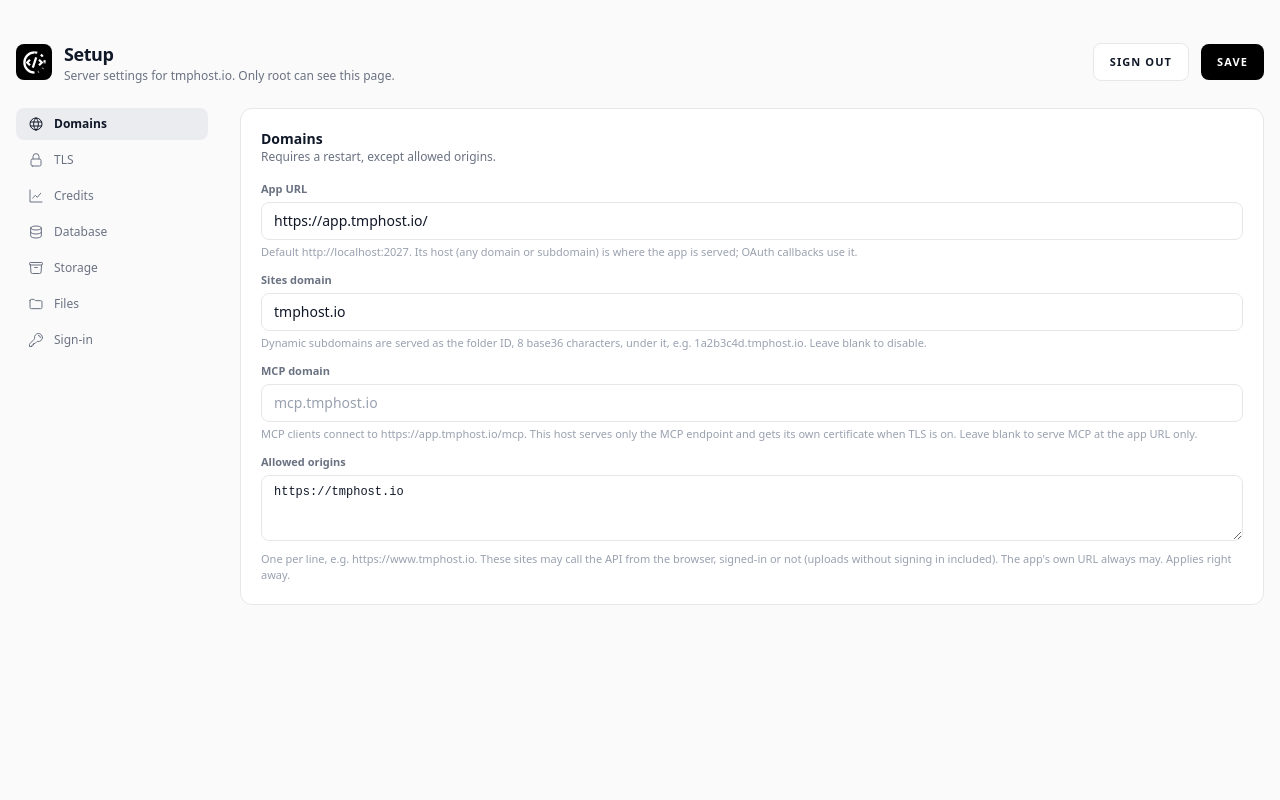
Test: SetupView › shows one settings section at a time from the side menu
The width and height of the screenshot is (1280, 800).
Click the button with test id "setup-tab-credits".
click(112, 196)  # box x1=16 y1=180 x2=208 y2=212
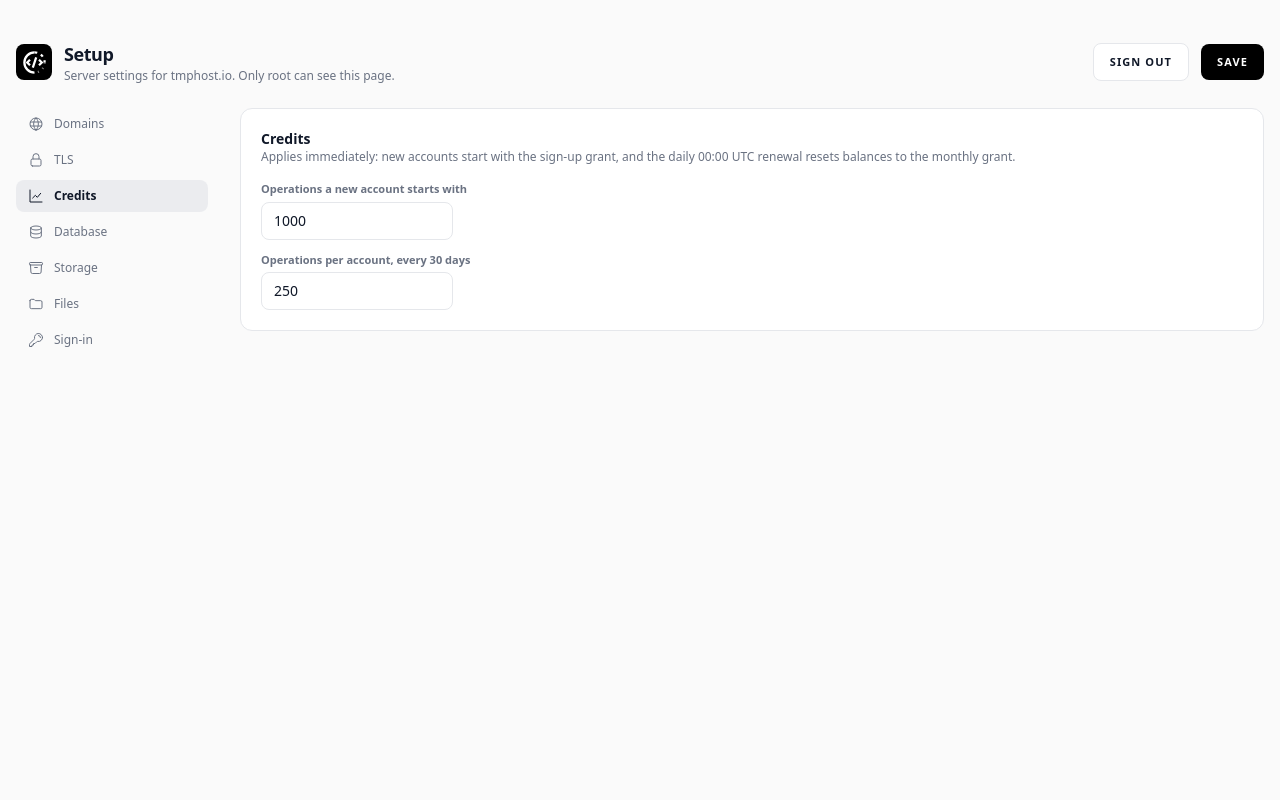
Check: the number field with test id "setup-signup-grant" holds "1000", box x1=261 y1=202 x2=453 y2=240
